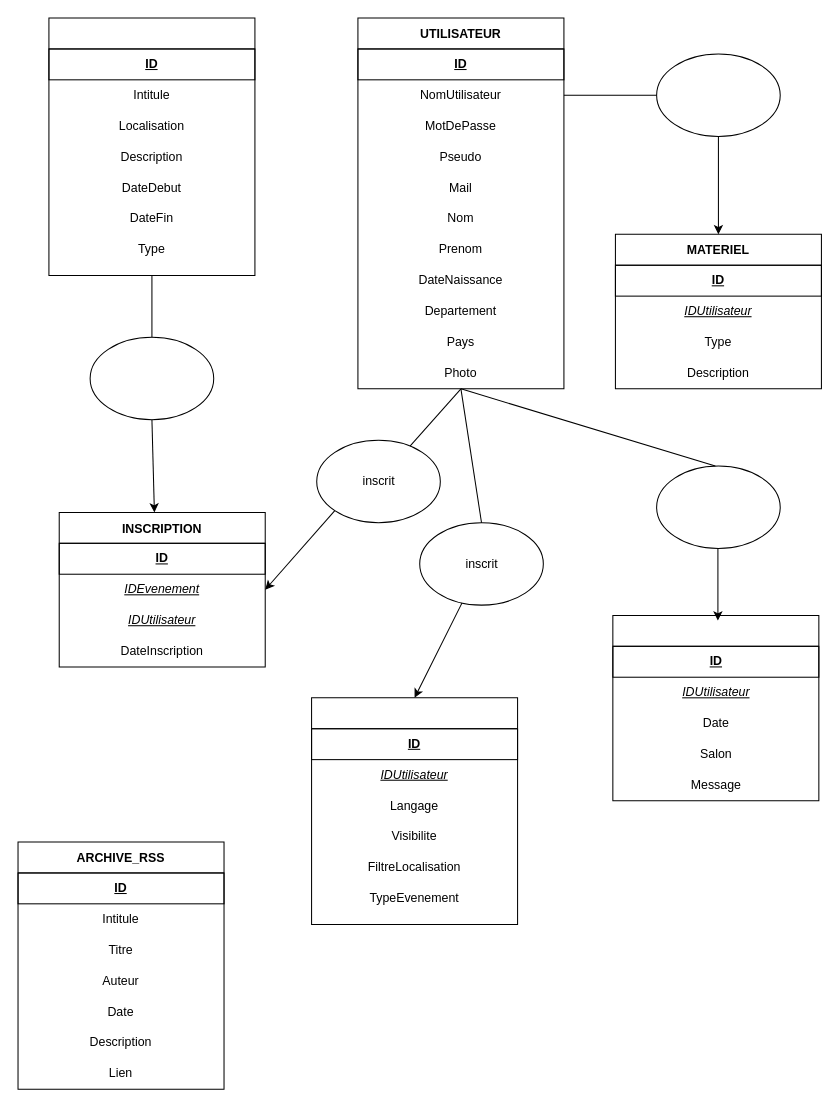
Some shapes in this 839 by 1107 pixel diagram are drawn without their labels. The shapes that lost their labels are listed below. From the top down, each one's box as (x1, y1, x2, y2) in pixels, then its label:
(656, 53, 780, 136): possède
(48, 17, 255, 276): EVENEMENT
(89, 336, 214, 420): est composé
(656, 465, 780, 548): poste
(612, 614, 819, 801): CHAT
(311, 697, 518, 924): PREFERENCES
